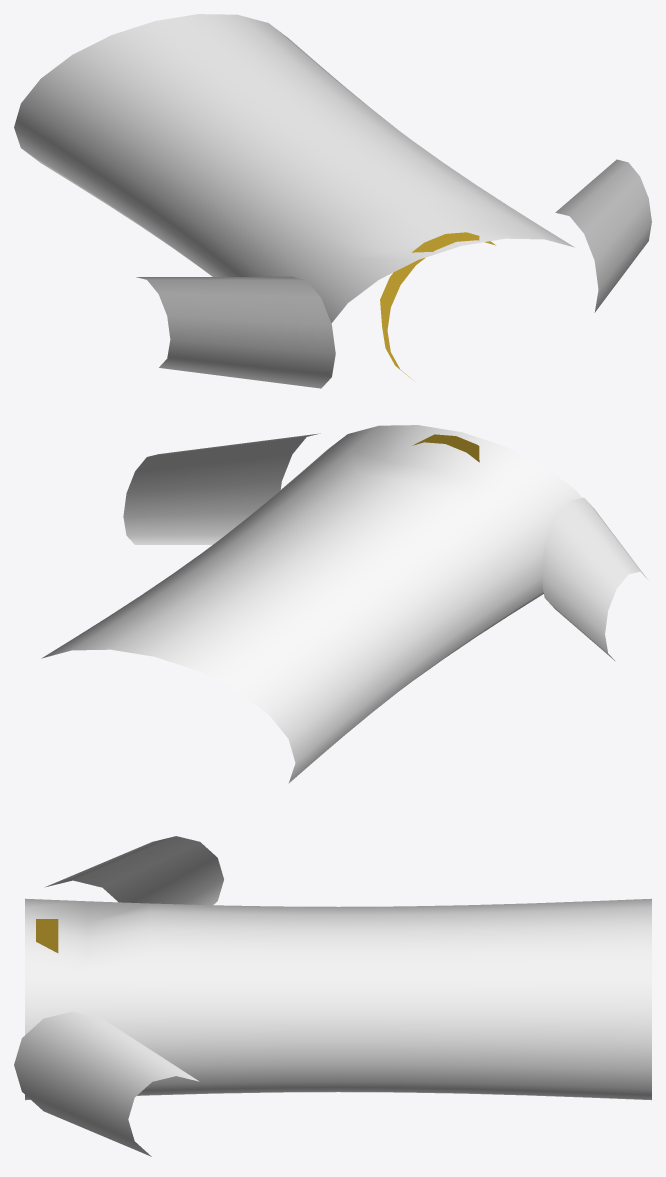
The model's file is vneck-setin.mobile.glb.
The picture shows the model from 3 angles, top to bottom: view 1: azimuth 30°, elevation 25°; view 2: azimuth 150°, elevation 25°; view 3: azimuth 270°, elevation 25°; orthographic projection. The views are drawn at different scales.
Visible parts, largest first — view 1: Jersey_vneck-setin; view 2: Jersey_vneck-setin; view 3: Jersey_vneck-setin.
Part boxes in pixels (x1,y1,x2,y2): Jersey_vneck-setin: (14,14,651,388); Jersey_vneck-setin: (41,425,648,783); Jersey_vneck-setin: (14,836,651,1156).
Bounding box in the file's own units: 1.54 × 0.44 × 1.73.
